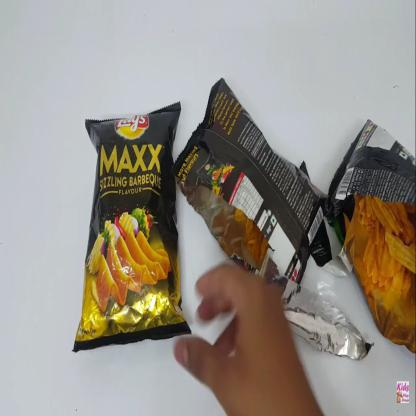maxx_sizzling_barbeque: (86, 116, 181, 332)
